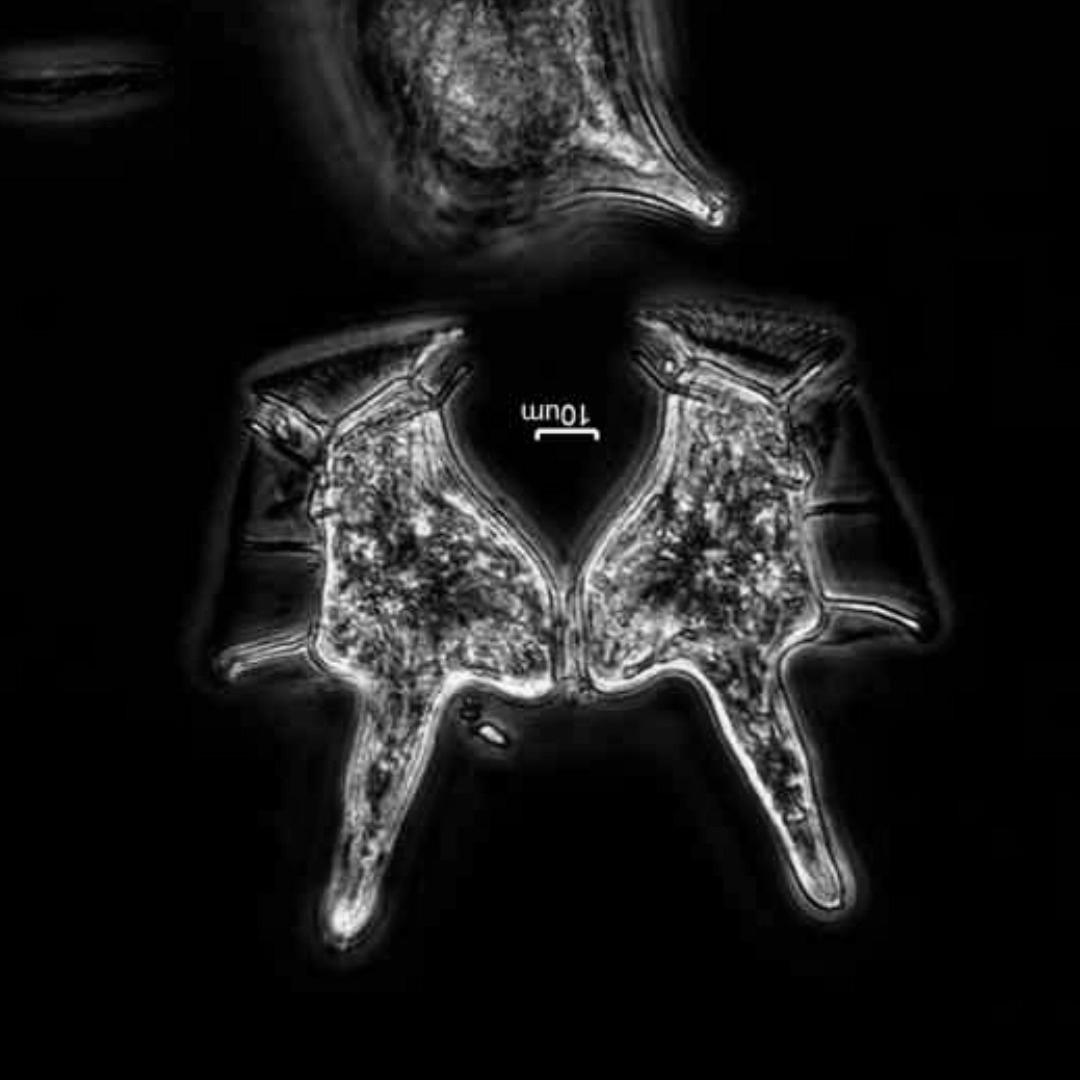dinophysis_caudata: (187, 310, 562, 944), (575, 291, 947, 914)
